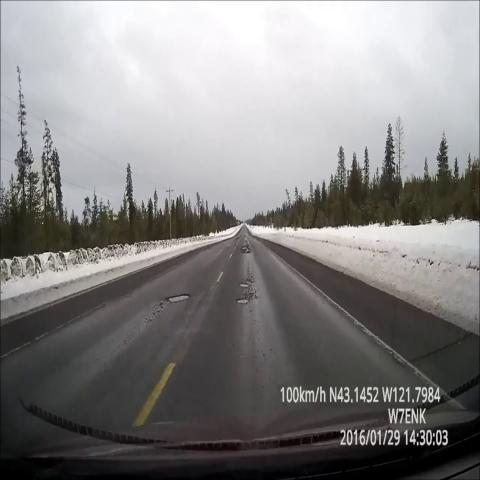pothole: (232, 275, 254, 297), (165, 289, 193, 305), (234, 242, 254, 262), (233, 297, 253, 310)
